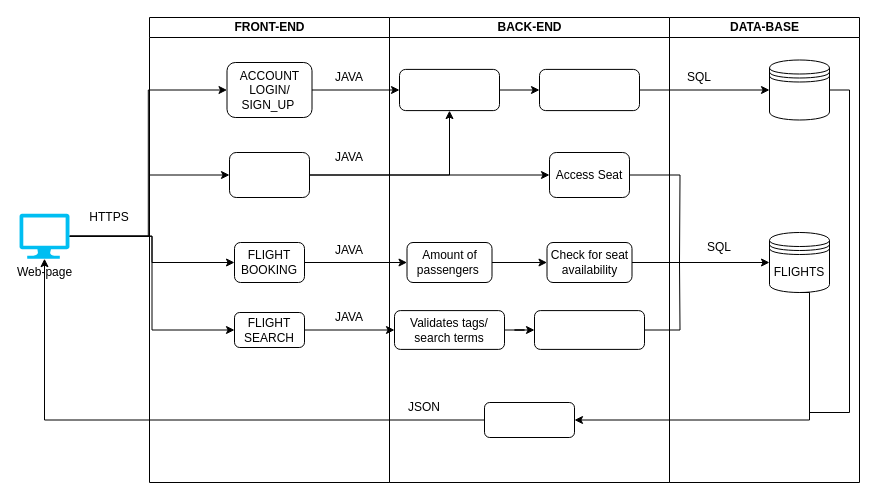
This 877x500 diagram has some shape labels left out. The centre of each missing label's shape, as x and y in pixels:
"Check for proper user information" goes at pixel 449 89.
"Data Conversion" goes at pixel 529 420.
"Request Information" goes at pixel 589 329.
"Request queries for proper data validation" goes at pixel 589 89.
"TICKET AQUESTION" goes at pixel 269 175.
"USER" goes at pixel 799 89.
